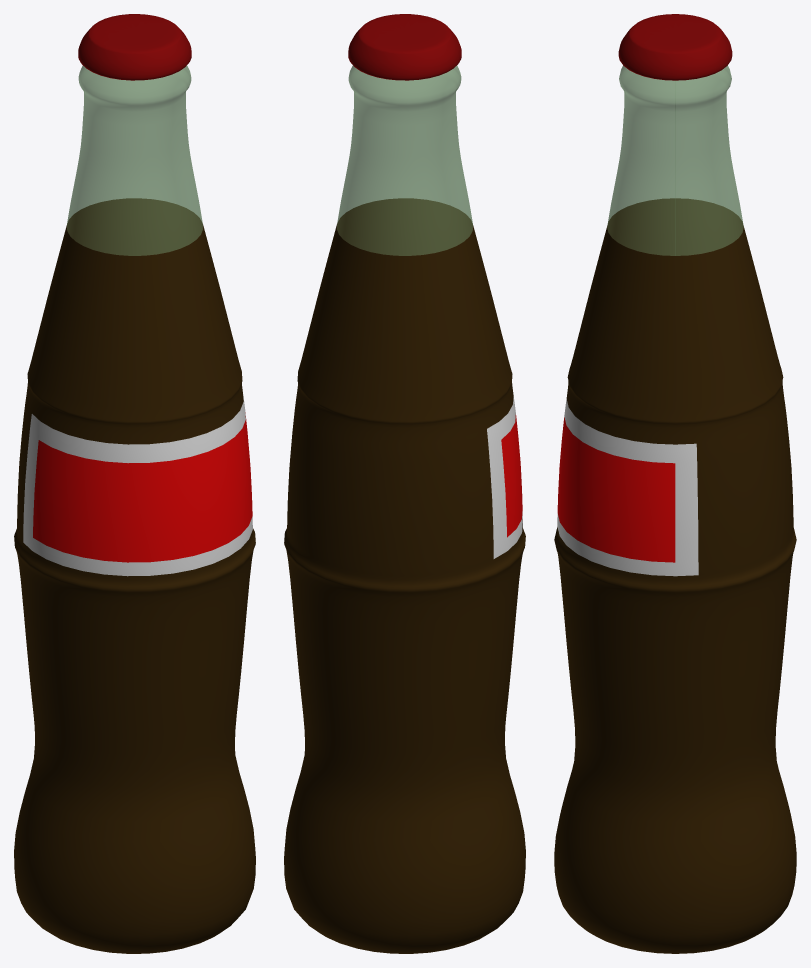
Rendered from Proto_Bottle_02.fbx.
3 views of the same model, side by side, from view 1: azimuth 30°, elevation 25°; view 2: azimuth 150°, elevation 25°; view 3: azimuth 270°, elevation 25° (orthographic).
Parts seen in each view (by area): view 1: Proto_Bottle_02; view 2: Proto_Bottle_02; view 3: Proto_Bottle_02.
Boxes of the visible parts, x1,y1,x2,y2 form: Proto_Bottle_02: [14, 14, 255, 953]; Proto_Bottle_02: [284, 14, 525, 953]; Proto_Bottle_02: [554, 14, 796, 953].
Size of the model in its own units: 2.47 by 9.92 by 2.47.
